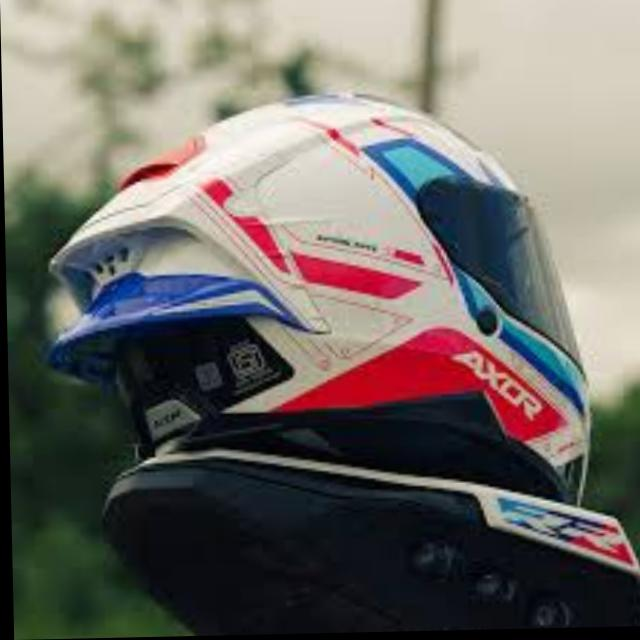motorcycle-helmets: (30, 67, 622, 528)
